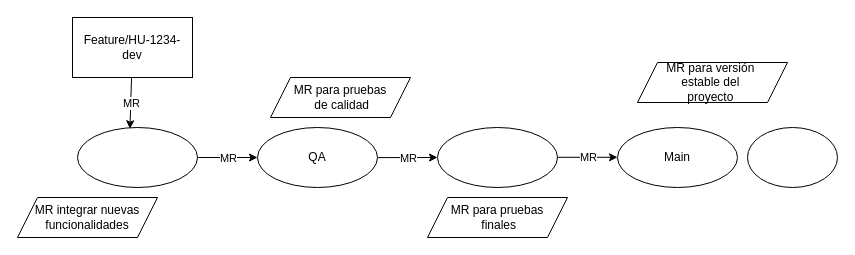
Image size: 855x255. Some labels were removed from this diagram. The shapes that lost their labels are listed below. From the top down, each one's box as (x1, y1, x2, y2) in pixels, then its label:
(76, 126, 198, 188): Dev
(436, 126, 558, 188): Staging
(746, 126, 838, 188): Project
